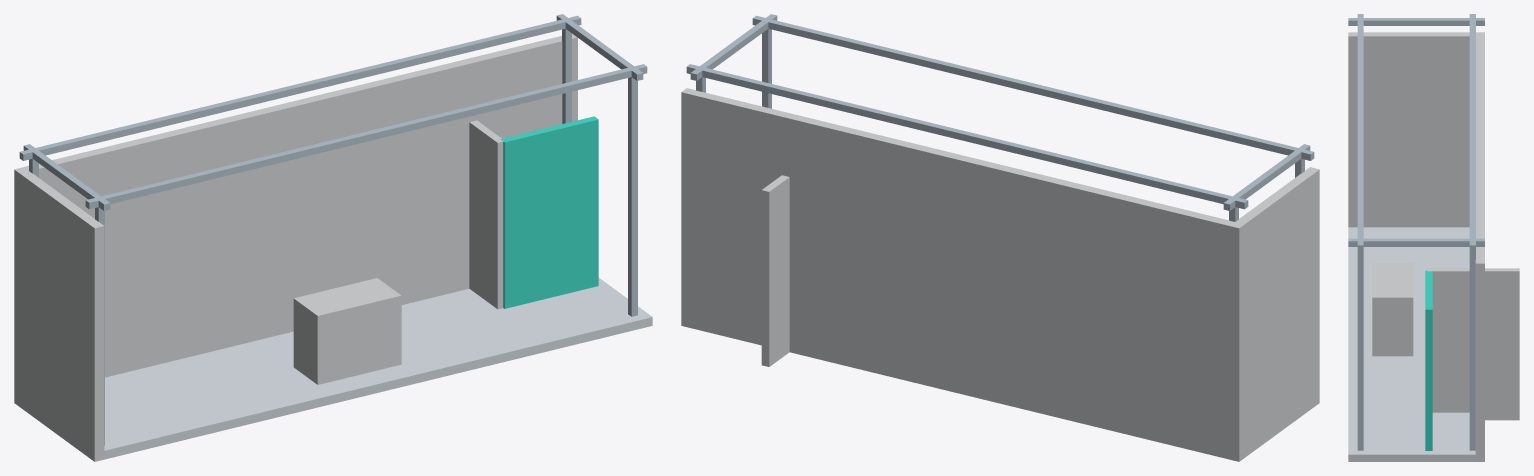
The picture shows the model from 3 angles, left to right: view 1: azimuth 30°, elevation 25°; view 2: azimuth 150°, elevation 25°; view 3: azimuth 270°, elevation 25°; orthographic projection. The views are drawn at different scales.
Visible parts, largest first — view 1: Exhibition Booth Concept; view 2: Exhibition Booth Concept; view 3: Exhibition Booth Concept.
Part boxes in pixels (<box>): Exhibition Booth Concept: <box>14,14,652,461</box>; Exhibition Booth Concept: <box>681,14,1319,461</box>; Exhibition Booth Concept: <box>1348,14,1519,461</box>.
Bounding box in the file's own units: 8 × 3.49 × 2.5.
